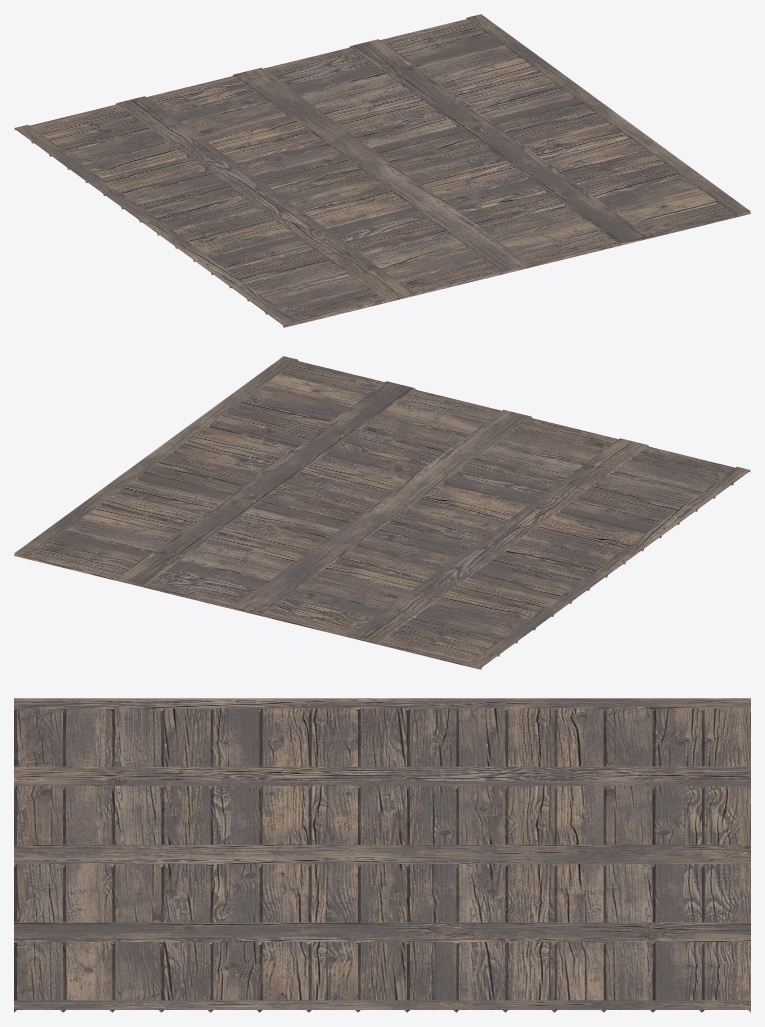
The model's file is IntWoodFloor01.FBX.
3 views of the same model, one above another, from view 1: azimuth 30°, elevation 25°; view 2: azimuth 150°, elevation 25°; view 3: azimuth 270°, elevation 25° (orthographic). The views are drawn at different scales.
Visible parts, largest first — view 1: Object006; view 2: Object006; view 3: Object006.
Part boxes in pixels (left/top/right/bottom): Object006: left=14, top=14, right=750, bottom=327; Object006: left=14, top=356, right=750, bottom=669; Object006: left=14, top=698, right=750, bottom=1012.
Bounding box in the file's own units: 98.43 × 0.4655 × 98.43.
